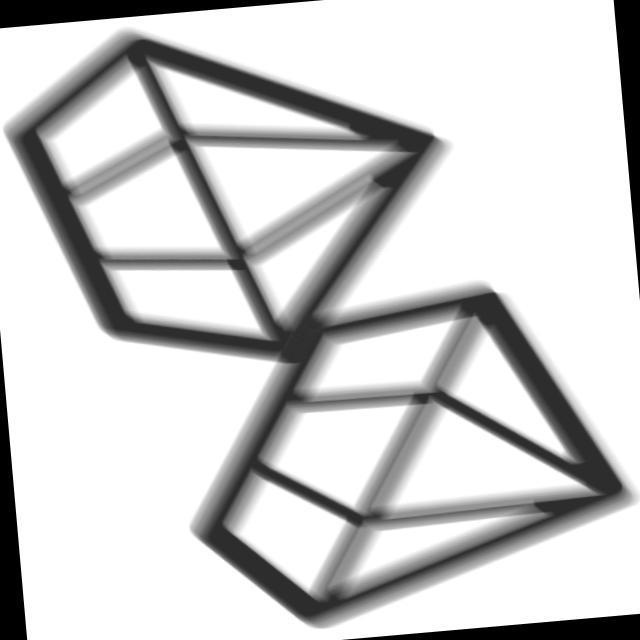diamond: (1, 1, 483, 405), (165, 260, 640, 640)
